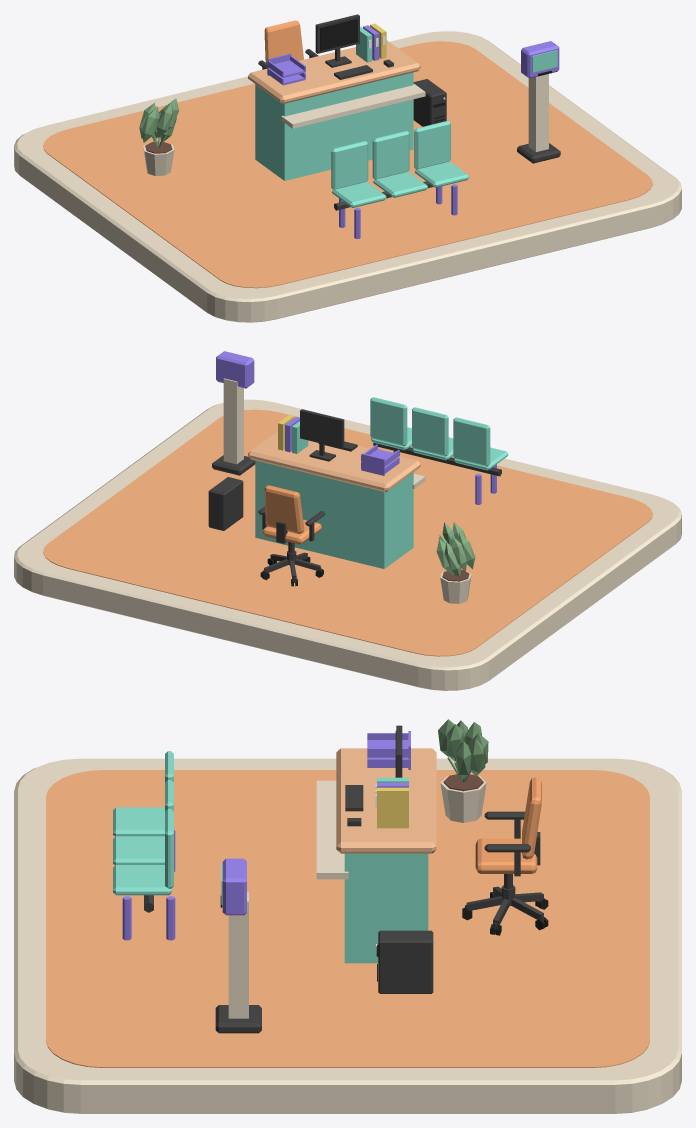
3 renders of one model, top to bottom at view 1: azimuth 30°, elevation 25°; view 2: azimuth 150°, elevation 25°; view 3: azimuth 270°, elevation 25°, orthographic. The views are drawn at different scales.
Parts seen in each view (by area): view 1: COM-02 Floor Surface, COM-01 Rounded Base Direct, Counter body, Countertop, Pot, Visitor shelf, Frame, Back, Back.001, Pedestal, Back.002, COM-04_Chair_blender_direct (+6 smaller); view 2: COM-02 Floor Surface, COM-01 Rounded Base Direct, Counter body, Countertop, COM-04_Chair_blender_direct, Pot, Pedestal, Tower, Frame, Back.002, Back, Back.001 (+2 smaller); view 3: COM-02 Floor Surface, COM-01 Rounded Base Direct, Counter body, Countertop, COM-04_Chair_blender_direct, Pot, Tower, Visitor shelf, Pedestal, Seat.002, Seat, Seat.001 (+4 smaller).
Boxes of the visible parts, <box> form: COM-02 Floor Surface: <box>43,41,652,288</box>; COM-01 Rounded Base Direct: <box>14,31,681,322</box>; Counter body: <box>255,72,413,180</box>; Countertop: <box>248,40,420,103</box>; Pot: <box>139,98,179,175</box>; Visitor shelf: <box>281,84,425,128</box>; Frame: <box>315,14,359,67</box>; Back: <box>331,141,368,189</box>; Back.001: <box>372,130,409,179</box>; Pedestal: <box>528,74,548,151</box>; Back.002: <box>414,120,450,169</box>; COM-04_Chair_blender_direct: <box>258,20,318,69</box>; COM-02 Floor Surface: <box>43,409,652,656</box>; COM-01 Rounded Base Direct: <box>14,399,681,690</box>; Counter body: <box>255,460,413,568</box>; Countertop: <box>248,431,420,492</box>; COM-04_Chair_blender_direct: <box>258,485,325,586</box>; Pot: <box>436,522,475,603</box>; Pedestal: <box>223,378,243,464</box>; Tower: <box>208,477,243,530</box>; Frame: <box>300,409,344,461</box>; Back.002: <box>370,397,407,446</box>; Back: <box>453,417,490,466</box>; Back.001: <box>412,407,448,456</box>; COM-02 Floor Surface: <box>46,770,649,1067</box>; COM-01 Rounded Base Direct: <box>14,758,681,1113</box>; Counter body: <box>344,853,428,963</box>; Countertop: <box>336,748,436,853</box>; COM-04_Chair_blender_direct: <box>462,777,548,935</box>; Pot: <box>438,719,488,822</box>; Tower: <box>378,930,433,993</box>; Visitor shelf: <box>316,780,348,879</box>; Pedestal: <box>228,892,248,1018</box>; Seat.002: <box>113,865,171,895</box>; Seat: <box>113,807,164,836</box>; Seat.001: <box>113,836,164,865</box>.
Bounding box in the file's own units: 6 × 1.87 × 5.2.
1 material, 1 textured.
